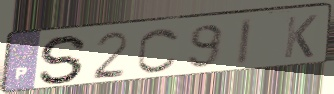2: (91, 30, 130, 81)
9: (185, 23, 226, 69)
C: (135, 26, 182, 75)
I: (234, 16, 255, 68)
K: (281, 13, 320, 60)
S: (37, 34, 91, 86)
